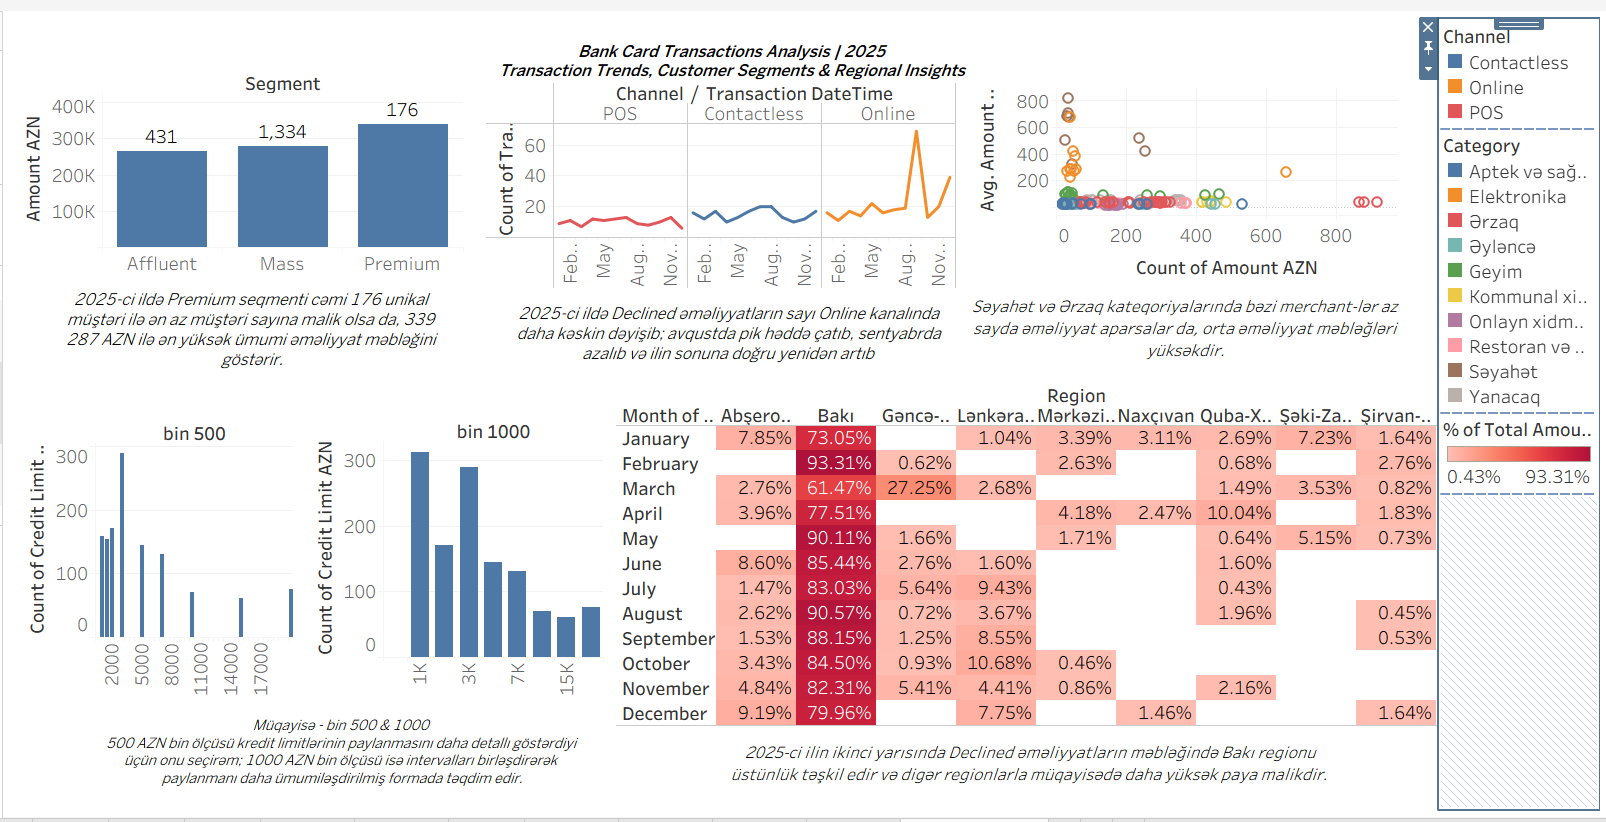

This screenshot's page, from the dashboard's own definition file:
{"tool":"tableau","page":{"name":"Dashboard","canvas":[1000,1000],"units":"permille","ordinal":0},"visuals":[{"type":"text","box":[285.2,9.9,337.8,95.5]},{"type":"legend","title":"T2-Channel","param":"[federated.0revqbz00p7twd1cmyvth01x86tc].[yr:Transaction_DateTime:ok]","box":[898.5,9.9,96.7,192.3]},{"type":"worksheet","title":"T3-Segment Amount","mark":"Automatic","rows":["Amount_AZN"],"cols":["Segment"],"box":[600,99.3,274.9,279.2]},{"type":"worksheet","title":"T2-Channel","mark":"Automatic","rows":["Amount_AZN"],"cols":["Channel"],"box":[13.3,109.2,302.1,292.8]},{"type":"worksheet","title":"T3-Segment Customer","mark":"Automatic","rows":["Customer_ID"],"cols":["Segment"],"box":[319,111.7,278.6,285.4]},{"type":"text","box":[598.8,380.9,282.8,106.7]},{"type":"text","box":[15.7,400.7,304.5,104.2]},{"type":"text","box":[340.2,406.9,267.1,63.3]},{"type":"worksheet","title":"T5","mark":"Automatic","rows":["Annual_Fee_AZN","Annual_Fee_AZN"],"box":[459.2,528.5,349.9,338.7]},{"type":"worksheet","title":"T4-Region Tranzaksiyalari","mark":"Automatic","rows":["Transaction_ID"],"cols":["Region"],"box":[11.5,543.4,332.9,328.8]},{"type":"text","box":[390.3,874.7,497.9,114.1]},{"type":"text","box":[8.5,899.5,337.8,72]}]}

Visuals, with their boxes on the dashboard's canvas, which has no fixed pixel size, in thousandths of its width and height (x1, y1, x2, y2). These are canvas units, not pixel positions in the 1606x822 screenshot, which may show the page scaled, cropped or inside an application window:
text: 285:10:623:105
"T2-Channel" legend: 898:10:995:202
"T3-Segment Amount" worksheet: 600:99:875:378
"T2-Channel" worksheet: 13:109:315:402
"T3-Segment Customer" worksheet: 319:112:598:397
text: 599:381:882:488
text: 16:401:320:505
text: 340:407:607:470
"T5" worksheet: 459:528:809:867
"T4-Region Tranzaksiyalari" worksheet: 12:543:344:872
text: 390:875:888:989
text: 8:900:346:972
